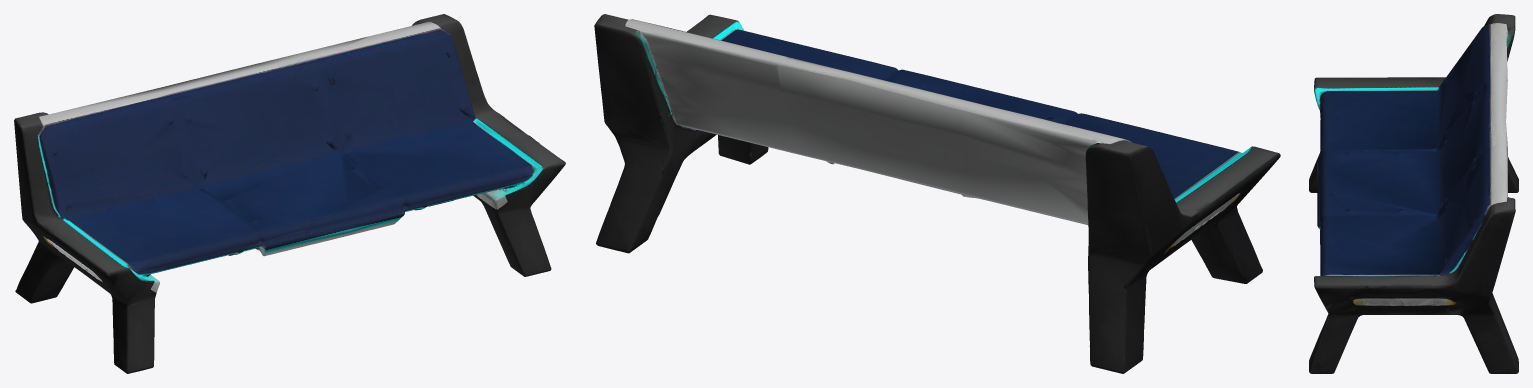
Rendered from player_bench.glb.
3 renders of one model, left to right at view 1: azimuth 30°, elevation 25°; view 2: azimuth 150°, elevation 25°; view 3: azimuth 270°, elevation 25°, orthographic. The views are drawn at different scales.
Size of the model in its own units: 1.9 by 0.6974 by 0.8042.
1 material, 1 textured.
